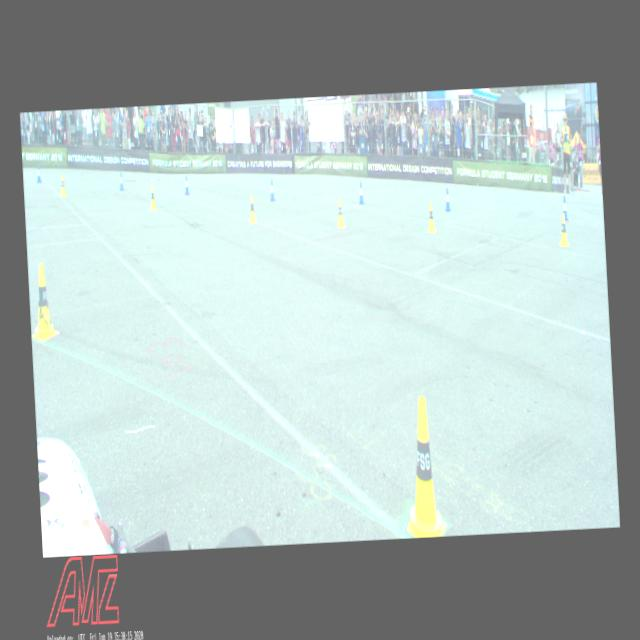blue_cone: (560, 196, 568, 220), (269, 180, 276, 202), (444, 188, 450, 212), (358, 182, 364, 204), (36, 165, 42, 183), (184, 175, 189, 195), (119, 172, 124, 190)
yellow_cone: (400, 396, 447, 538), (28, 263, 58, 341), (558, 214, 569, 246), (428, 202, 437, 233), (336, 198, 345, 228), (58, 174, 68, 197), (248, 196, 256, 224), (150, 185, 158, 210)
